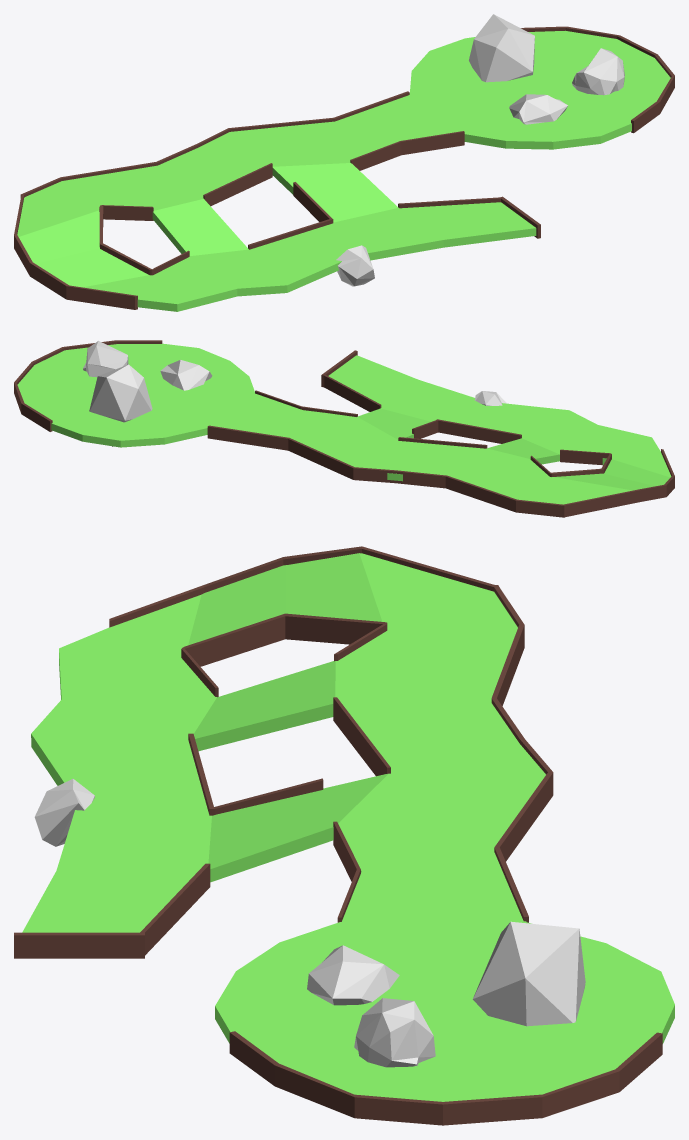
3 views of the same model, one above another, from view 1: azimuth 30°, elevation 25°; view 2: azimuth 150°, elevation 25°; view 3: azimuth 270°, elevation 25° (orthographic). The views are drawn at different scales.
Visible parts, largest first — view 1: Cube.054, Cube.055, Icosphere.066, Icosphere.067, Icosphere.068, Icosphere.069; view 2: Cube.054, Cube.055, Icosphere.066, Icosphere.067, Icosphere.068, Icosphere.069; view 3: Cube.054, Cube.055, Icosphere.066, Icosphere.067, Icosphere.068, Icosphere.069.
Part boxes in pixels (bbox=[...]): Cube.054: bbox=[17, 30, 670, 311]; Cube.055: bbox=[14, 26, 674, 309]; Icosphere.066: bbox=[469, 14, 534, 82]; Icosphere.067: bbox=[572, 48, 624, 95]; Icosphere.068: bbox=[509, 94, 567, 124]; Icosphere.069: bbox=[336, 245, 374, 286]; Cube.054: bbox=[17, 343, 671, 504]; Cube.055: bbox=[14, 340, 674, 517]; Icosphere.066: bbox=[89, 364, 152, 446]; Icosphere.067: bbox=[83, 341, 128, 377]; Icosphere.068: bbox=[160, 359, 212, 390]; Icosphere.069: bbox=[474, 391, 506, 405]; Cube.054: bbox=[22, 553, 674, 1101]; Cube.055: bbox=[14, 546, 662, 1125]; Icosphere.066: bbox=[472, 921, 585, 1026]; Icosphere.067: bbox=[354, 998, 435, 1067]; Icosphere.068: bbox=[307, 945, 399, 1005]; Icosphere.069: bbox=[34, 779, 94, 846].
Bounding box in the file's own units: 2167 × 288 × 1073.
